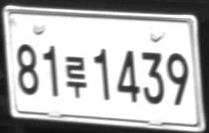1: (91, 48, 114, 100), (41, 45, 62, 96)
3: (142, 51, 164, 104)
4: (117, 50, 140, 101)
8: (17, 43, 39, 95)
9: (166, 52, 188, 105)
루: (65, 56, 86, 98)
